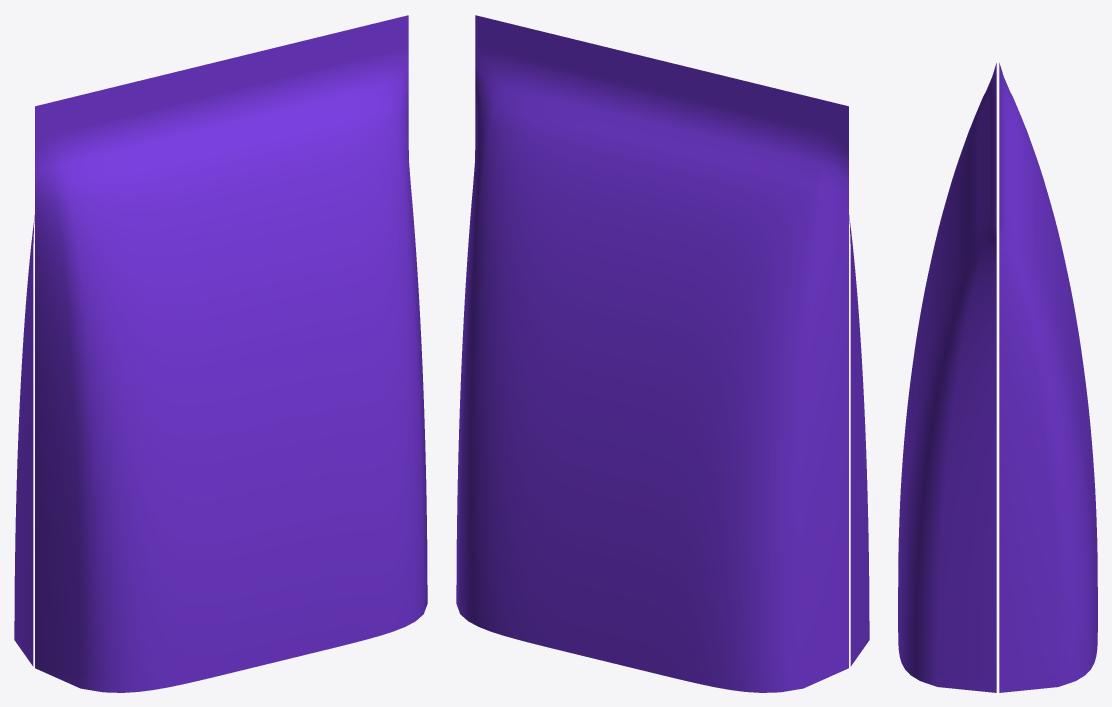
The model's file is stand-up-pouch.glb.
3 renders of one model, left to right at view 1: azimuth 30°, elevation 25°; view 2: azimuth 150°, elevation 25°; view 3: azimuth 270°, elevation 25°, orthographic. The views are drawn at different scales.
Visible parts, largest first — view 1: Pouch; view 2: Pouch; view 3: Pouch.
Boxes of the visible parts, x1=… form: Pouch: x1=14, y1=15, x2=427, y2=692; Pouch: x1=456, y1=15, x2=869, y2=692; Pouch: x1=898, y1=63, x2=1097, y2=692.
Bounding box in the file's own units: 0.16 × 0.23 × 0.0812.
